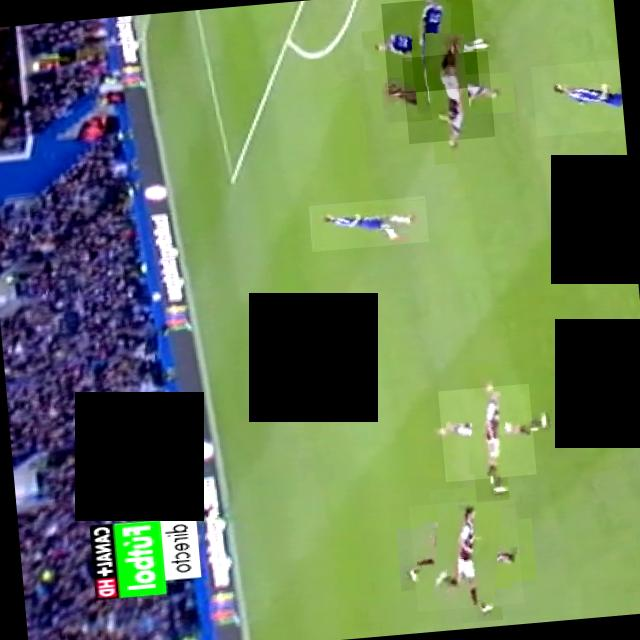referee: (555, 380, 640, 439)
soccer-player: (408, 497, 522, 612), (436, 383, 536, 482), (379, 0, 478, 94), (401, 50, 494, 144), (530, 59, 624, 136), (307, 196, 428, 252)
